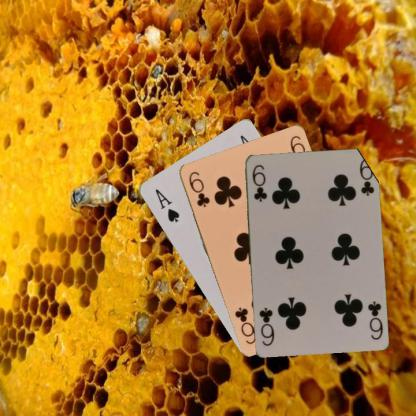6c: (185, 168, 211, 209), (365, 298, 384, 341), (249, 162, 268, 203)
As: (152, 186, 181, 224)
